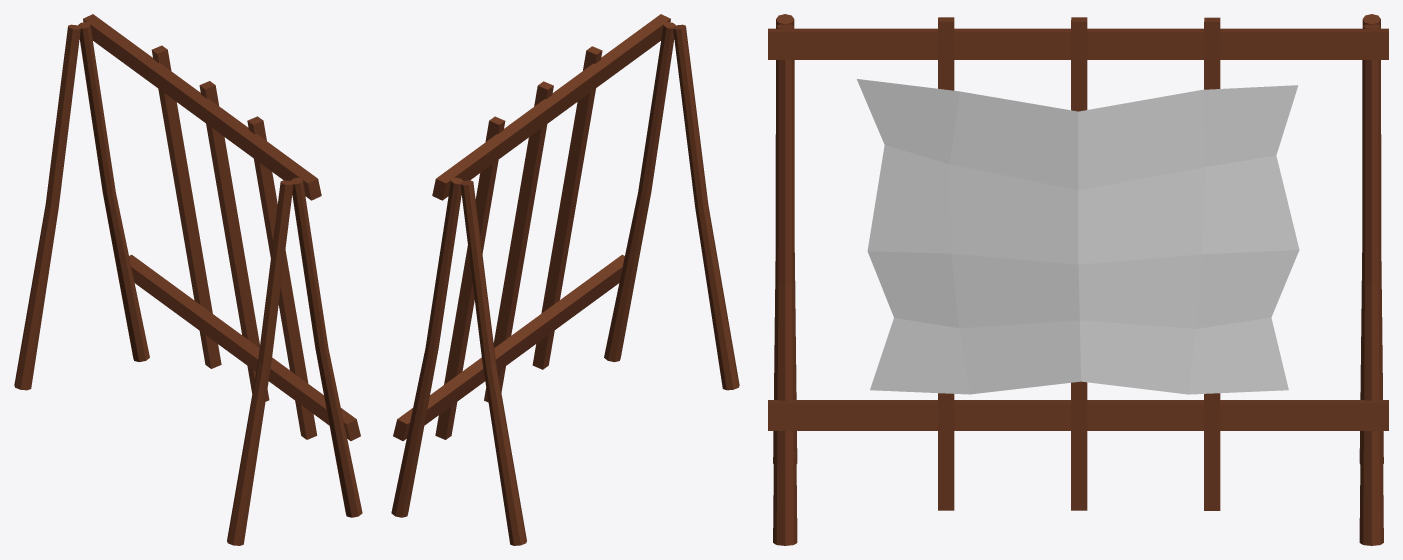
The model's file is tannning_rack_leather.glb.
3 renders of one model, left to right at view 1: azimuth 30°, elevation 25°; view 2: azimuth 150°, elevation 25°; view 3: azimuth 270°, elevation 25°, orthographic. The views are drawn at different scales.
Visible parts, largest first — view 1: tanning_rack; view 2: tanning_rack; view 3: leather, tanning_rack.
Boxes of the visible parts, bbox=[...] form: tanning_rack: bbox=[14, 14, 362, 545]; tanning_rack: bbox=[391, 14, 739, 545]; leather: bbox=[857, 79, 1299, 394]; tanning_rack: bbox=[768, 14, 1388, 545].
Size of the model in its own units: 0.6598 by 1.57 by 1.77.
